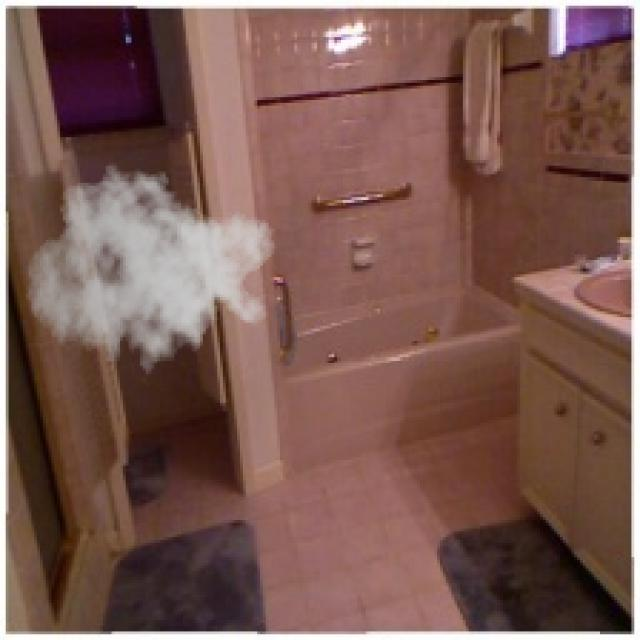smoke: (26, 157, 277, 386)
